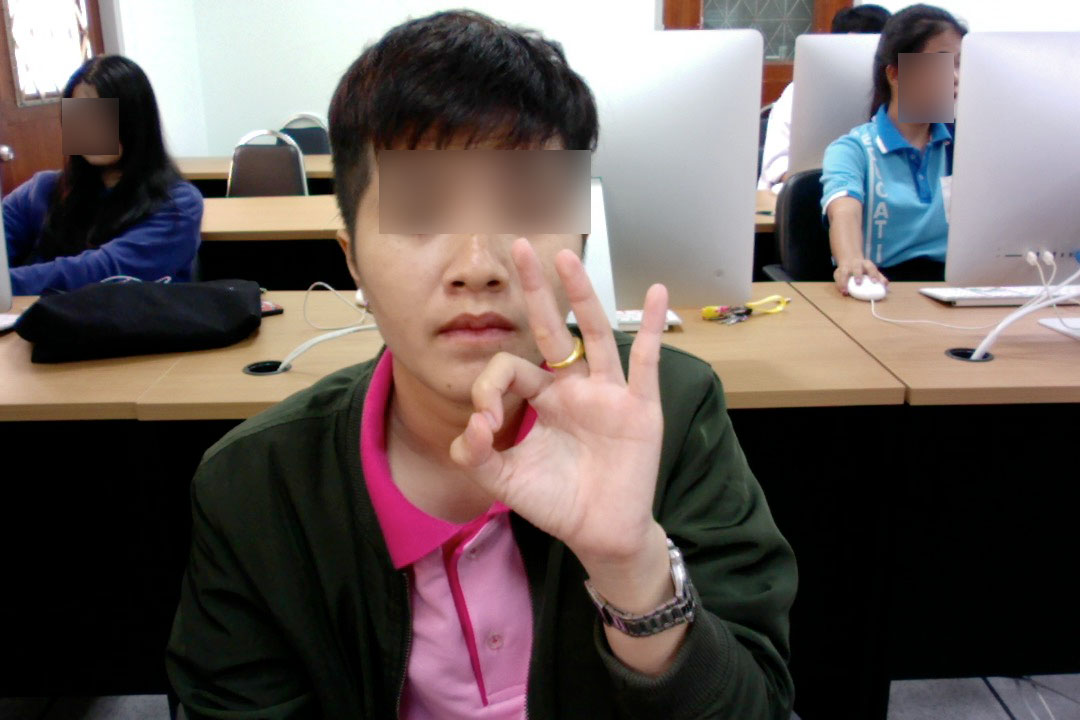for: (425, 229, 710, 599)
